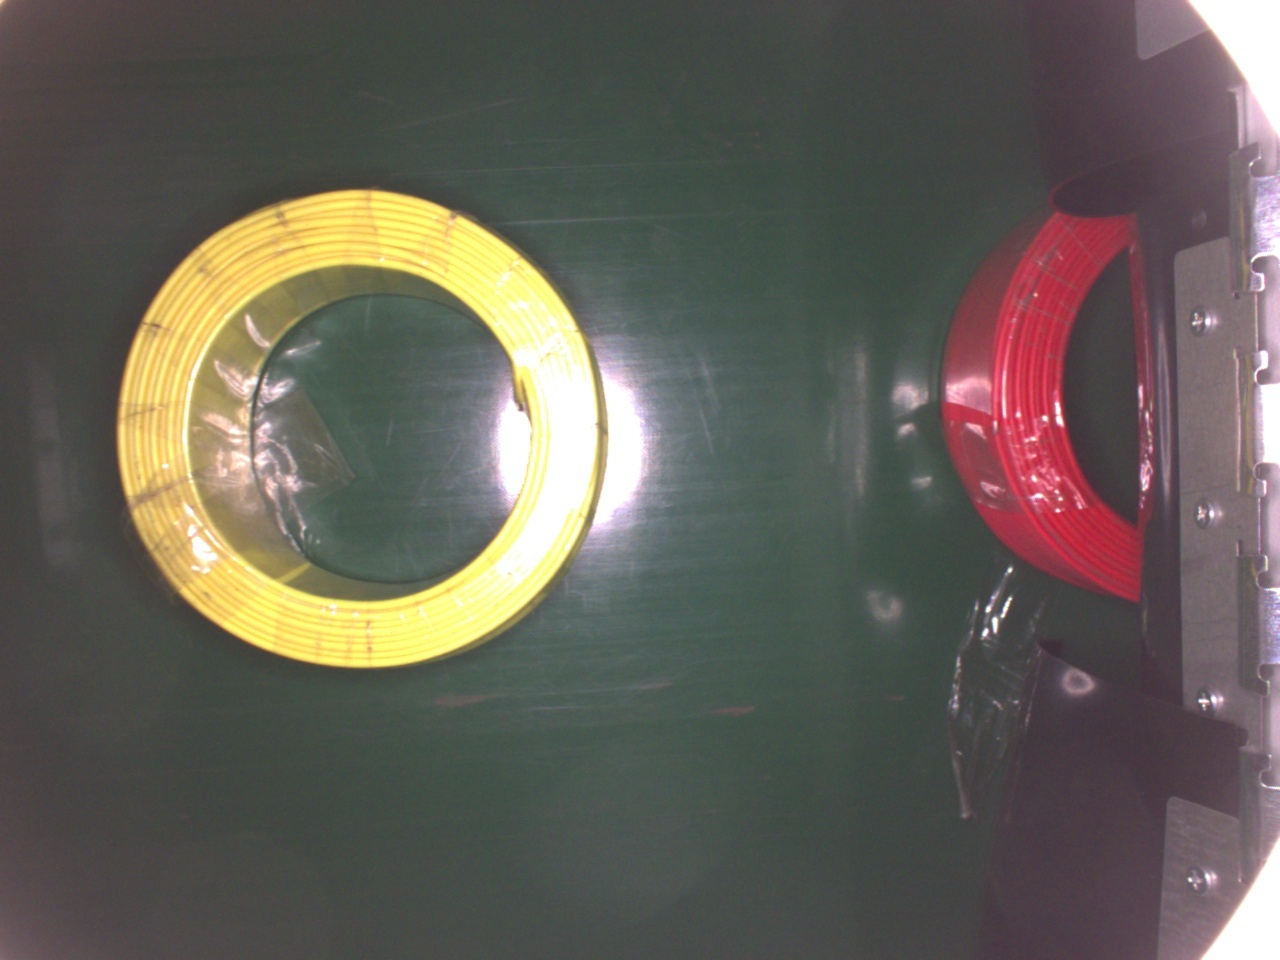red: (938, 198, 1166, 607)
yellow: (117, 189, 609, 675)
